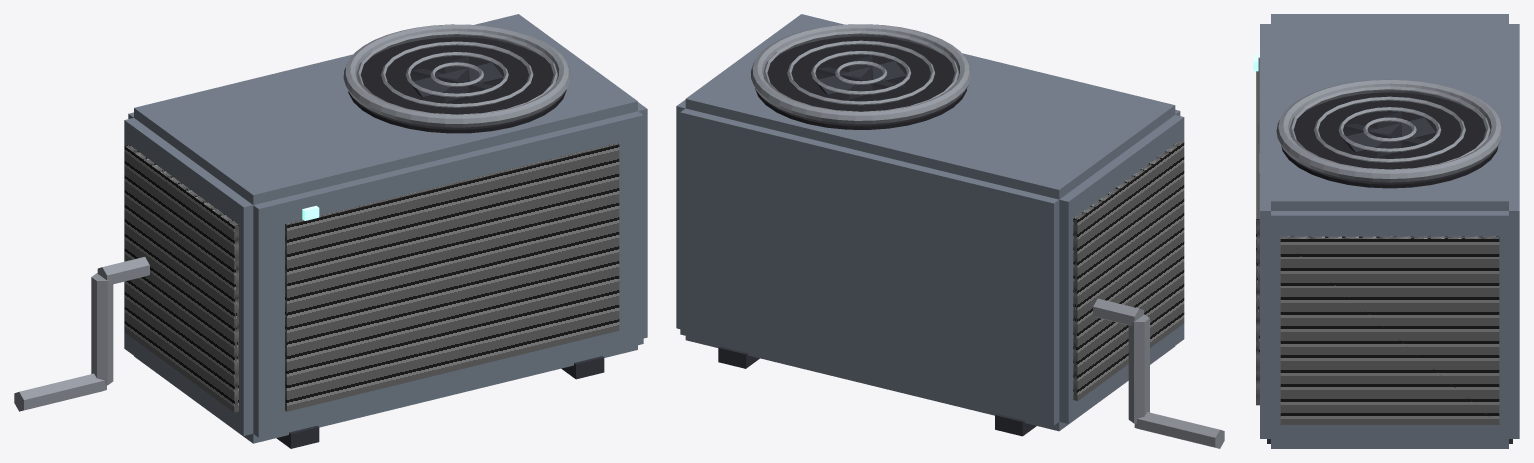
Rendered from roof_ac.glb.
3 renders of one model, left to right at view 1: azimuth 30°, elevation 25°; view 2: azimuth 150°, elevation 25°; view 3: azimuth 270°, elevation 25°, orthographic. The views are drawn at different scales.
Visible parts, largest first — view 1: Louvres, AC body, Fan guard, Fan well, Fan blade; view 2: AC body, Louvres, Fan guard, Fan well, Fan blade; view 3: AC body, Louvres, Fan guard, Fan well, Fan blade.
Part boxes in pixels (x1,y1,x2,y2): Louvres: (124, 143, 619, 412); AC body: (124, 14, 647, 443); Fan guard: (14, 24, 570, 411); Fan well: (348, 37, 566, 133); Fan blade: (276, 56, 604, 448); AC body: (676, 14, 1184, 431); Louvres: (1073, 141, 1184, 400); Fan guard: (750, 24, 1224, 448); Fan well: (755, 36, 966, 129); Fan blade: (718, 55, 1036, 436); AC body: (1260, 14, 1519, 448); Louvres: (1256, 57, 1499, 424); Fan guard: (1276, 79, 1503, 182); Fan well: (1281, 92, 1498, 188); Fan blade: (1267, 112, 1512, 443).
Size of the model in its own units: 2.27 by 1.12 by 0.975.
6 materials, 1 textured.
